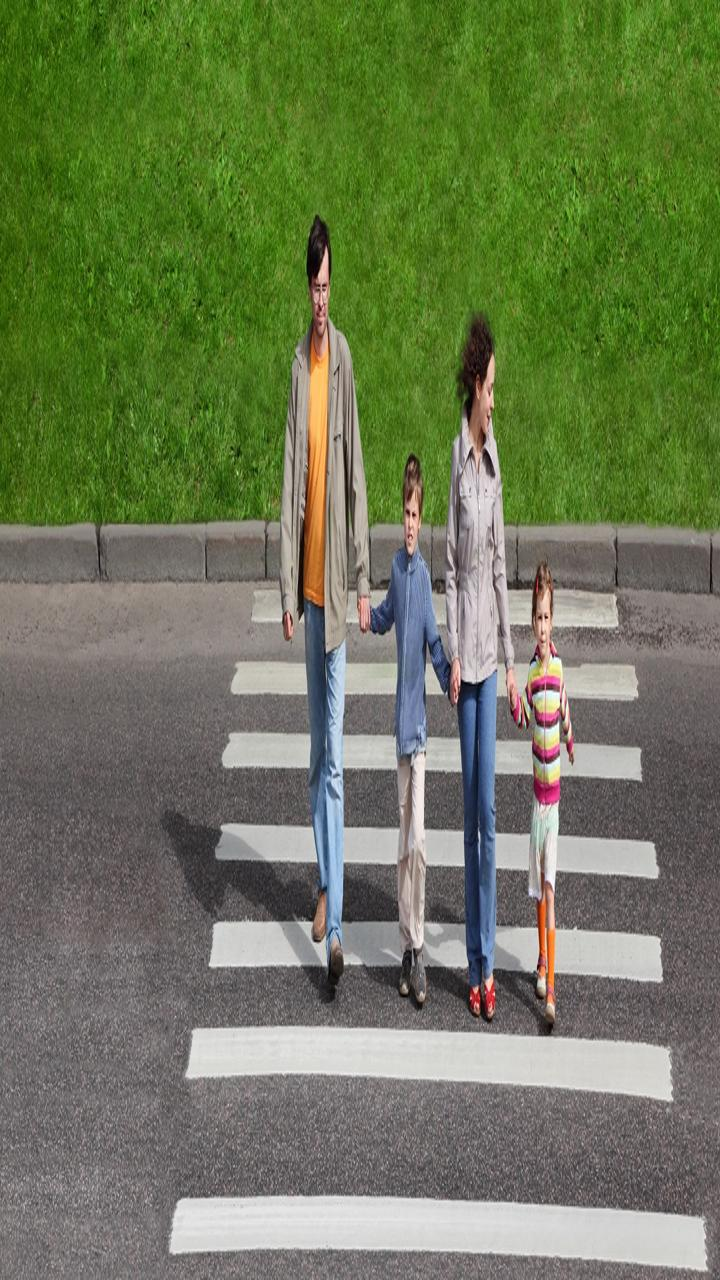pedestrian: (258, 199, 366, 1013), (434, 304, 514, 1031), (369, 453, 446, 1017), (510, 537, 586, 1036)
